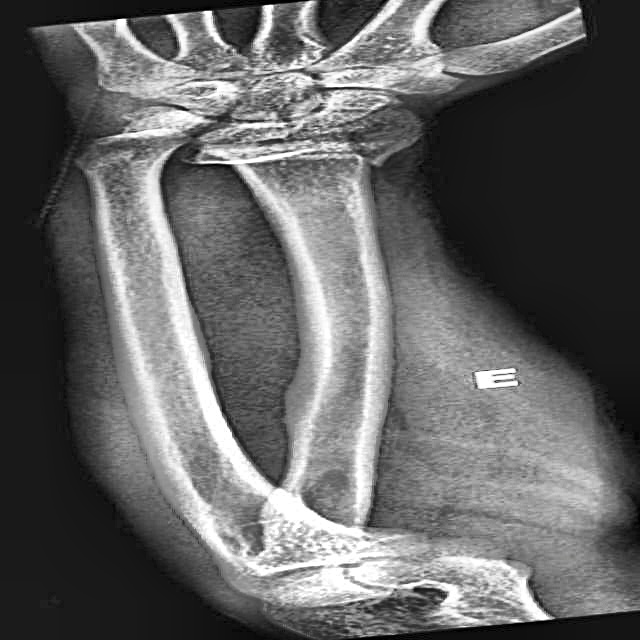Healthy: (59, 143, 466, 530)
